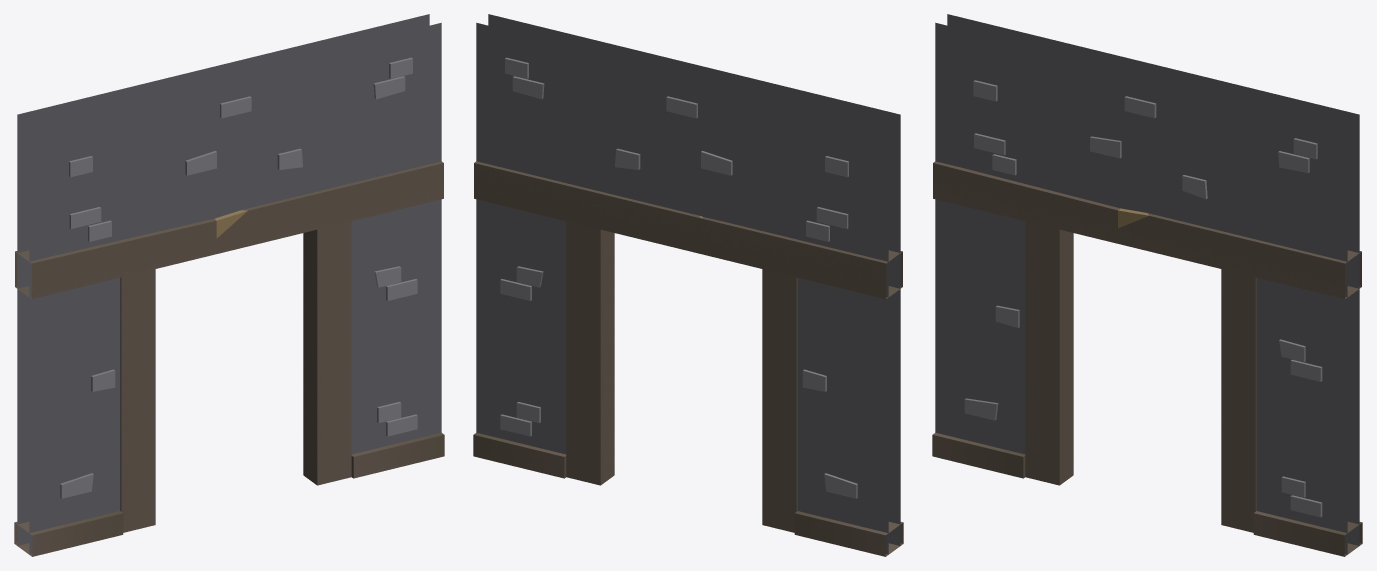
File: Wall_2D_Door.fbx
3 renders of one model, left to right at view 1: azimuth 30°, elevation 25°; view 2: azimuth 150°, elevation 25°; view 3: azimuth 330°, elevation 25°, orthographic.
Visible parts, largest first — view 1: pCube771; view 2: pCube771; view 3: pCube771.
Part boxes in pixels (x1,y1,x2,y2): pCube771: (14,14,444,556); pCube771: (473,14,903,556); pCube771: (932,14,1362,556).
Bounding box in the file's own units: 400 × 400 × 30.
